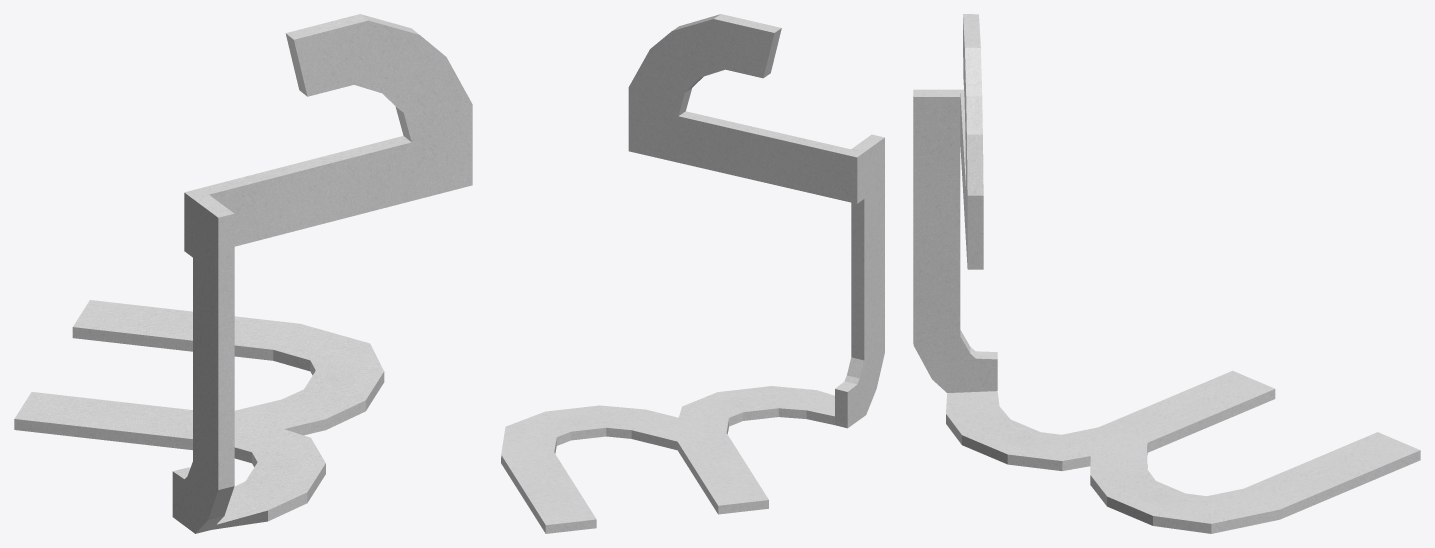
File: Le_soin.gltf
3 views of the same model, side by side, from view 1: azimuth 30°, elevation 25°; view 2: azimuth 150°, elevation 25°; view 3: azimuth 270°, elevation 25° (orthographic). The views are drawn at different scales.
Visible parts, largest first — view 1: Le_soin; view 2: Le_soin; view 3: Le_soin.
Part boxes in pixels (box(x1,y1,x2,y2)): Le_soin: box(14, 14, 472, 533); Le_soin: box(501, 14, 884, 533); Le_soin: box(913, 14, 1420, 533).
Size of the model in its own units: 25.53 by 33.05 by 35.72.
Materials: 1 (1 with a texture image).
